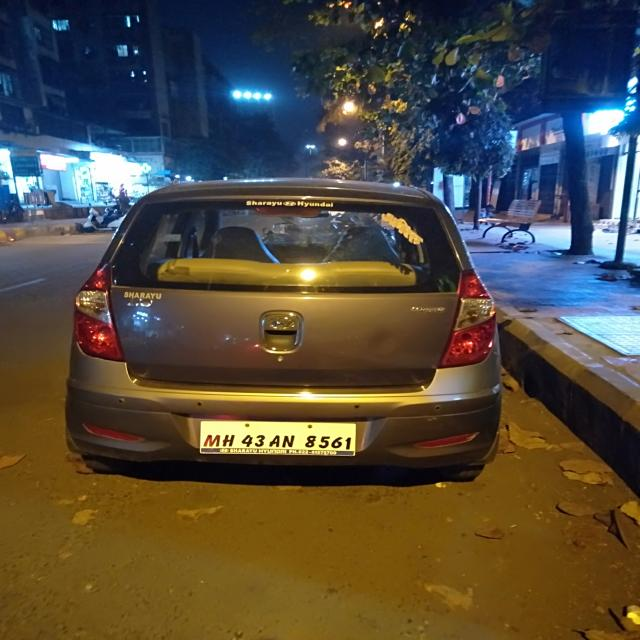Number-Plate: (203, 416, 354, 458)
